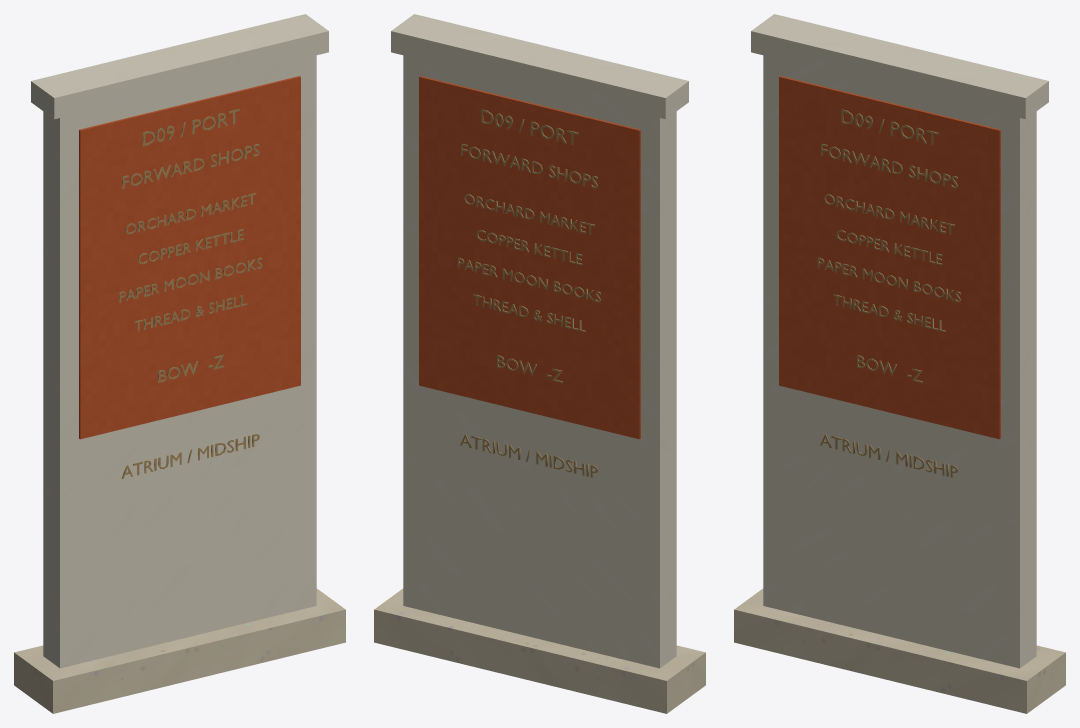
Rendered from guide_port_forward_r002.glb.
3 views of the same model, side by side, from view 1: azimuth 30°, elevation 25°; view 2: azimuth 150°, elevation 25°; view 3: azimuth 330°, elevation 25° (orthographic).
Parts seen in each view (by area): view 1: profiled_column, recessed_orange_directory, weighted_plinth, crown, district, atrium, venue_2, venue_0, venue_3, venue_1, heading; view 2: profiled_column, recessed_orange_directory_back, weighted_plinth, crown, district_back, atrium_back, venue_2_back, venue_0_back, venue_3_back, venue_1_back, heading_back; view 3: profiled_column, recessed_orange_directory, weighted_plinth, crown, district, atrium, venue_2, venue_0, venue_3, venue_1, heading.
Part boxes in pixels (x1=…): profiled_column: x1=43, y1=55, x2=316, y2=668; recessed_orange_directory: x1=79, y1=76, x2=300, y2=439; weighted_plinth: x1=14, y1=588, x2=345, y2=713; crown: x1=31, y1=14, x2=328, y2=119; district: x1=122, y1=144, x2=259, y2=188; atrium: x1=121, y1=434, x2=259, y2=478; venue_2: x1=119, y1=257, x2=262, y2=302; venue_0: x1=125, y1=193, x2=256, y2=234; venue_3: x1=134, y1=295, x2=247, y2=331; venue_1: x1=138, y1=229, x2=243, y2=264; heading: x1=143, y1=109, x2=239, y2=146; profiled_column: x1=403, y1=55, x2=676, y2=668; recessed_orange_directory_back: x1=419, y1=76, x2=640, y2=439; weighted_plinth: x1=374, y1=588, x2=705, y2=713; crown: x1=391, y1=14, x2=688, y2=119; district_back: x1=461, y1=143, x2=597, y2=188; atrium_back: x1=460, y1=434, x2=598, y2=477; venue_2_back: x1=457, y1=257, x2=600, y2=302; venue_0_back: x1=464, y1=194, x2=594, y2=234; venue_3_back: x1=473, y1=294, x2=585, y2=332; venue_1_back: x1=476, y1=230, x2=582, y2=265; heading_back: x1=481, y1=109, x2=578, y2=145; profiled_column: x1=763, y1=55, x2=1036, y2=668; recessed_orange_directory: x1=779, y1=76, x2=1000, y2=439; weighted_plinth: x1=734, y1=588, x2=1065, y2=713; crown: x1=751, y1=14, x2=1048, y2=119; district: x1=821, y1=143, x2=957, y2=188; atrium: x1=820, y1=434, x2=958, y2=477; venue_2: x1=817, y1=257, x2=960, y2=302; venue_0: x1=824, y1=194, x2=954, y2=234; venue_3: x1=833, y1=294, x2=945, y2=332; venue_1: x1=836, y1=230, x2=942, y2=265; heading: x1=841, y1=109, x2=938, y2=145.
Bounding box in the file's own units: 1.3 × 2.58 × 0.3.
4 materials, 4 textured.
